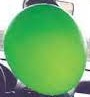Balloon: (4, 4, 86, 94)
